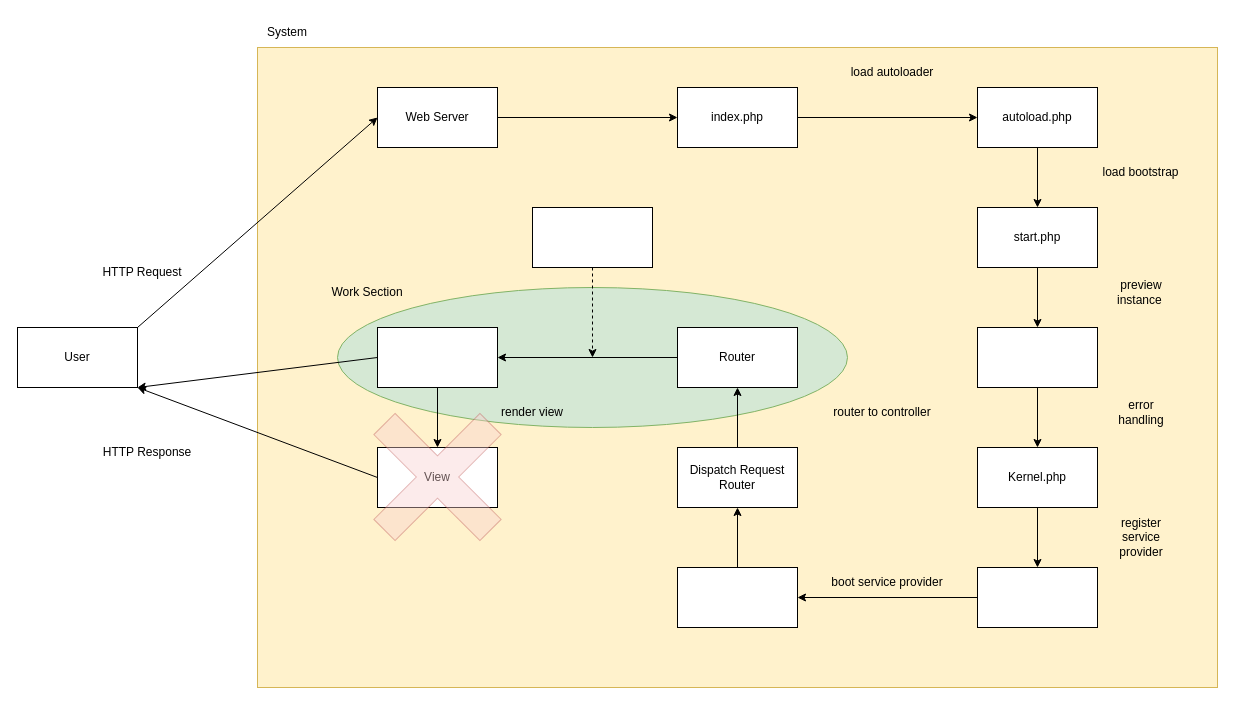
Image size: 1235x705. Some labels were removed from this diagram. The shapes that lost their labels are listed below. From the top down, each one's centre as x and y in pixels, then its label:
At [592,237]: "Middleware".
At [437,357]: "Controller".
At [1037,357]: "app.php".
At [737,597]: "Service Provider boot".
At [1037,597]: "Service Provider Register".
